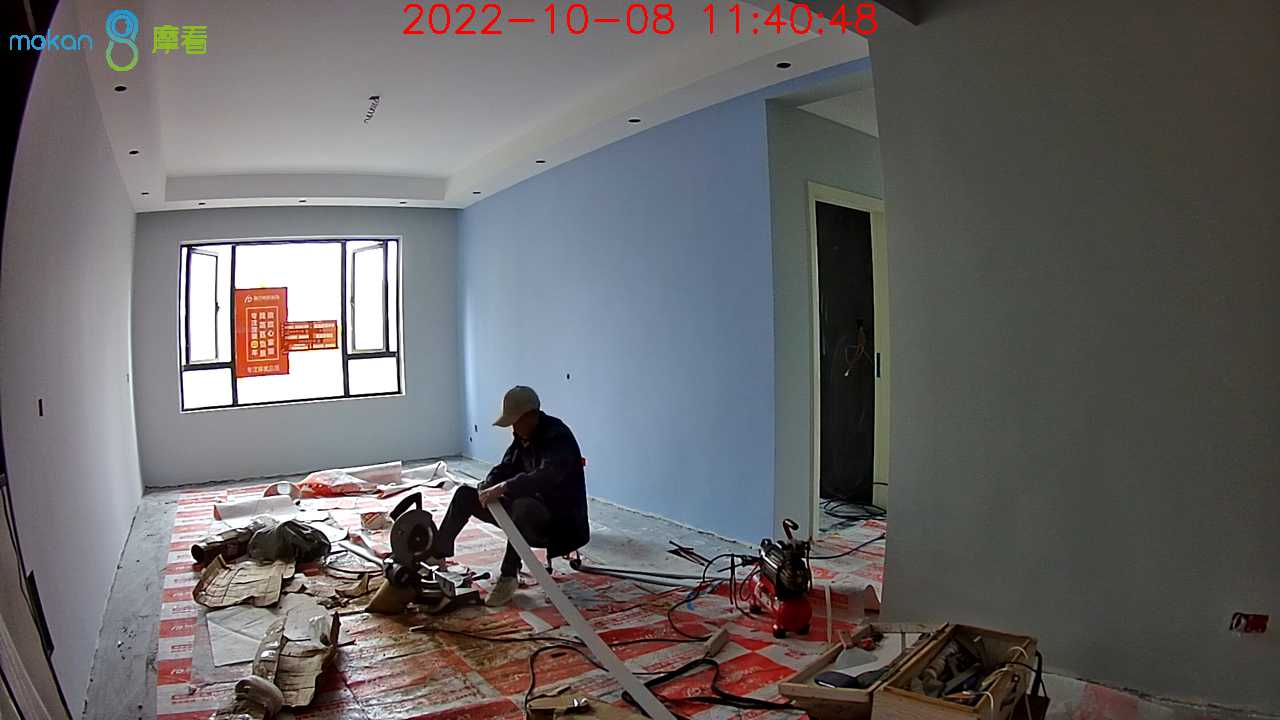people: (431, 386, 589, 604)
window: (179, 243, 402, 406)
